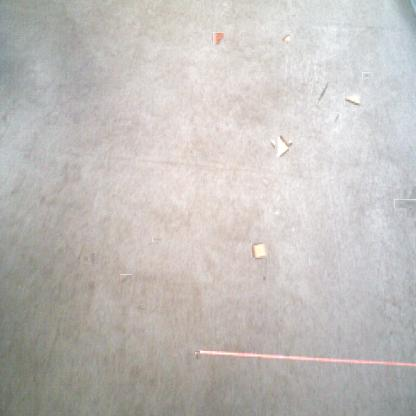dirty: (273, 136, 292, 155), (252, 242, 268, 259), (344, 92, 361, 107), (212, 32, 225, 45), (281, 33, 291, 43)
mark: (400, 192, 416, 214), (316, 81, 330, 105), (85, 255, 97, 266), (120, 274, 132, 283), (136, 301, 146, 311), (332, 112, 340, 123), (87, 281, 95, 291), (33, 303, 41, 311), (153, 236, 161, 243), (363, 72, 370, 79), (194, 351, 200, 359), (261, 276, 267, 284)
